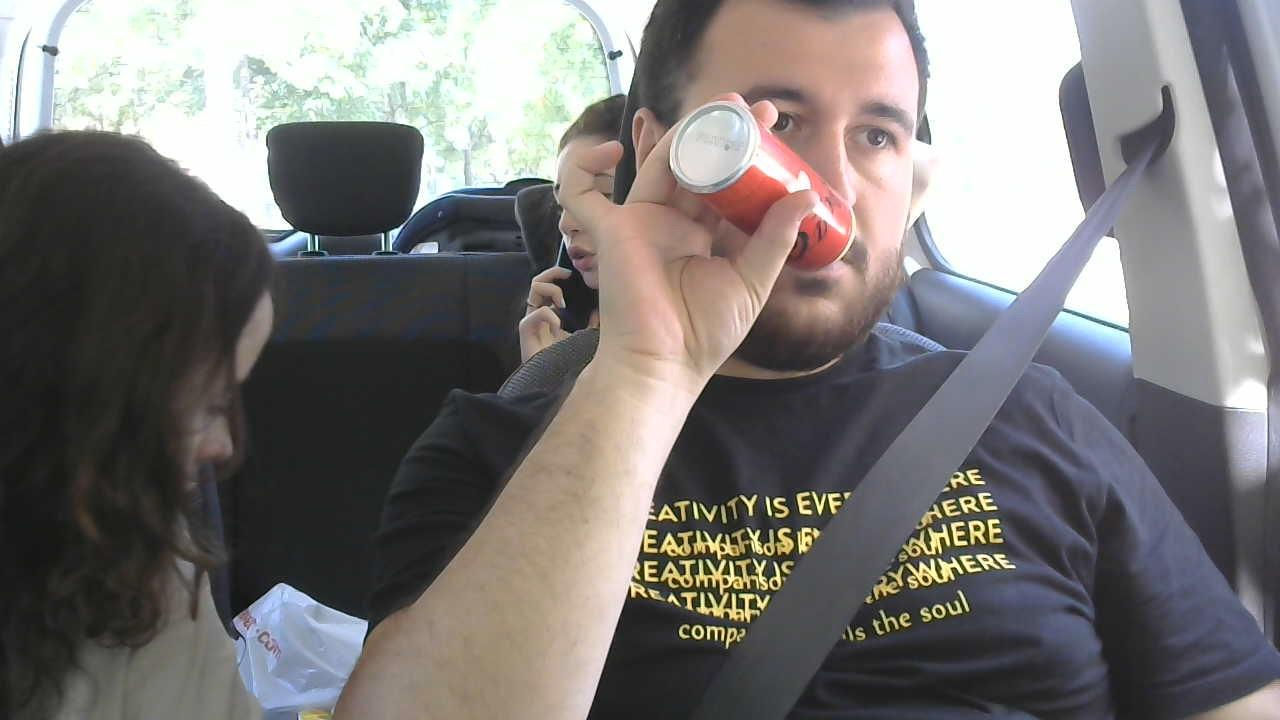Drinking: (633, 0, 909, 362)
